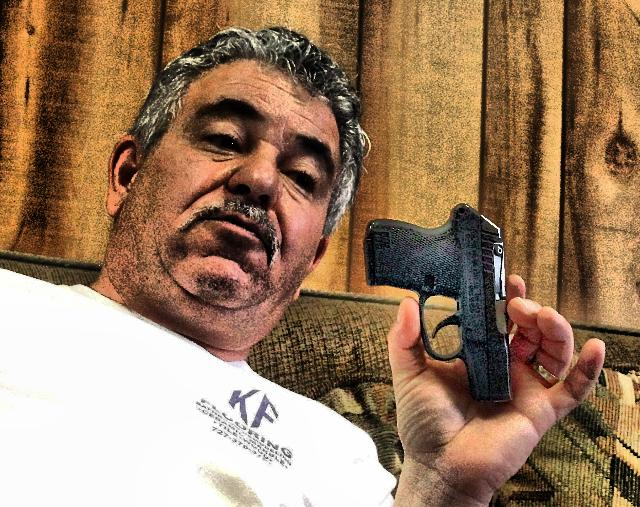pistol: (356, 195, 516, 407)
